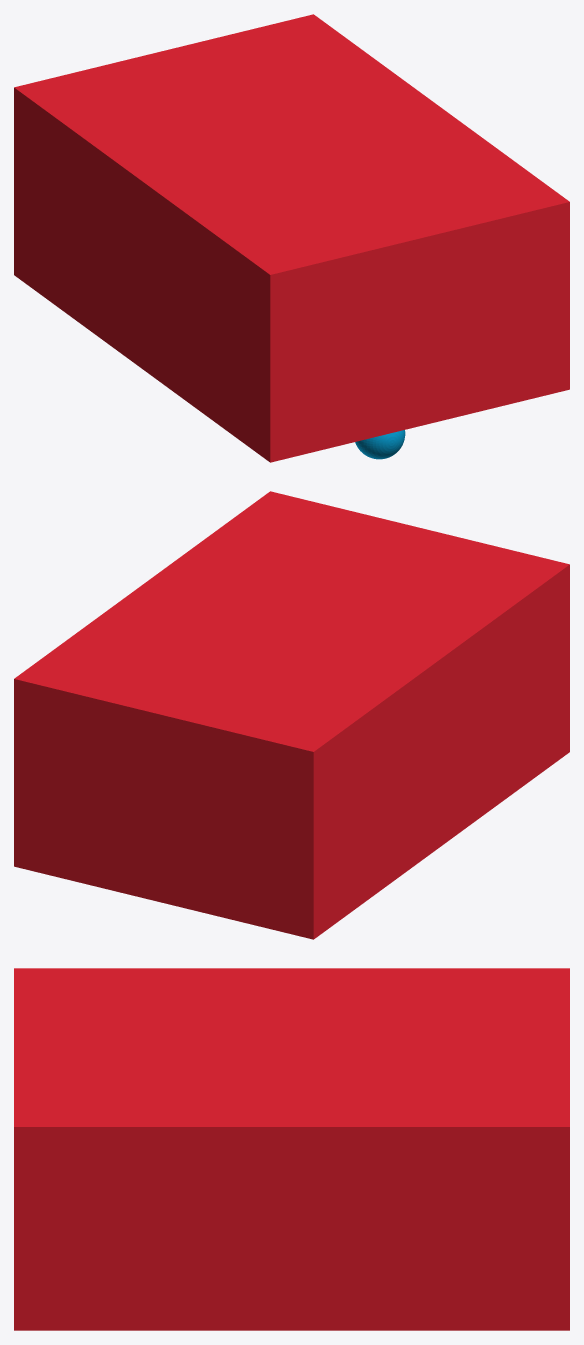
File: tinker.obj
3 views of the same model, one above another, from view 1: azimuth 30°, elevation 25°; view 2: azimuth 150°, elevation 25°; view 3: azimuth 270°, elevation 25° (orthographic). The views are drawn at different scales.
Visible parts, largest first — view 1: group_0_15277357, group_0_40919; view 2: group_0_15277357; view 3: group_0_15277357.
Boxes of the visible parts, x1,y1,x2,y2 form: group_0_15277357: (14, 14, 569, 462); group_0_40919: (355, 430, 405, 459); group_0_15277357: (14, 491, 569, 939); group_0_15277357: (14, 968, 569, 1330).
Bounding box in the file's own units: 33.42 × 26 × 49.5.
